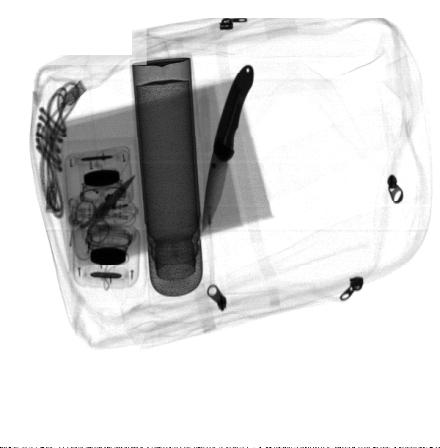Knife: (201, 65, 254, 235)
Scissors: (74, 175, 134, 245)
